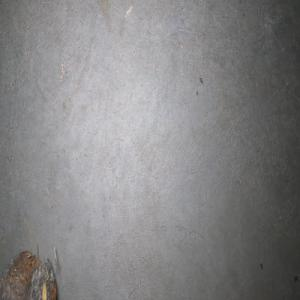Rock: (0, 243, 57, 300)
